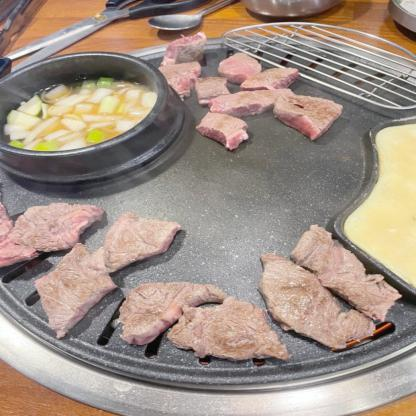Carne: (29, 214, 192, 328), (256, 254, 372, 349), (281, 229, 395, 316), (169, 296, 291, 361), (103, 278, 218, 346), (1, 196, 100, 265), (273, 94, 344, 137), (202, 83, 291, 115), (233, 64, 304, 92), (205, 110, 253, 151), (192, 68, 230, 104)
